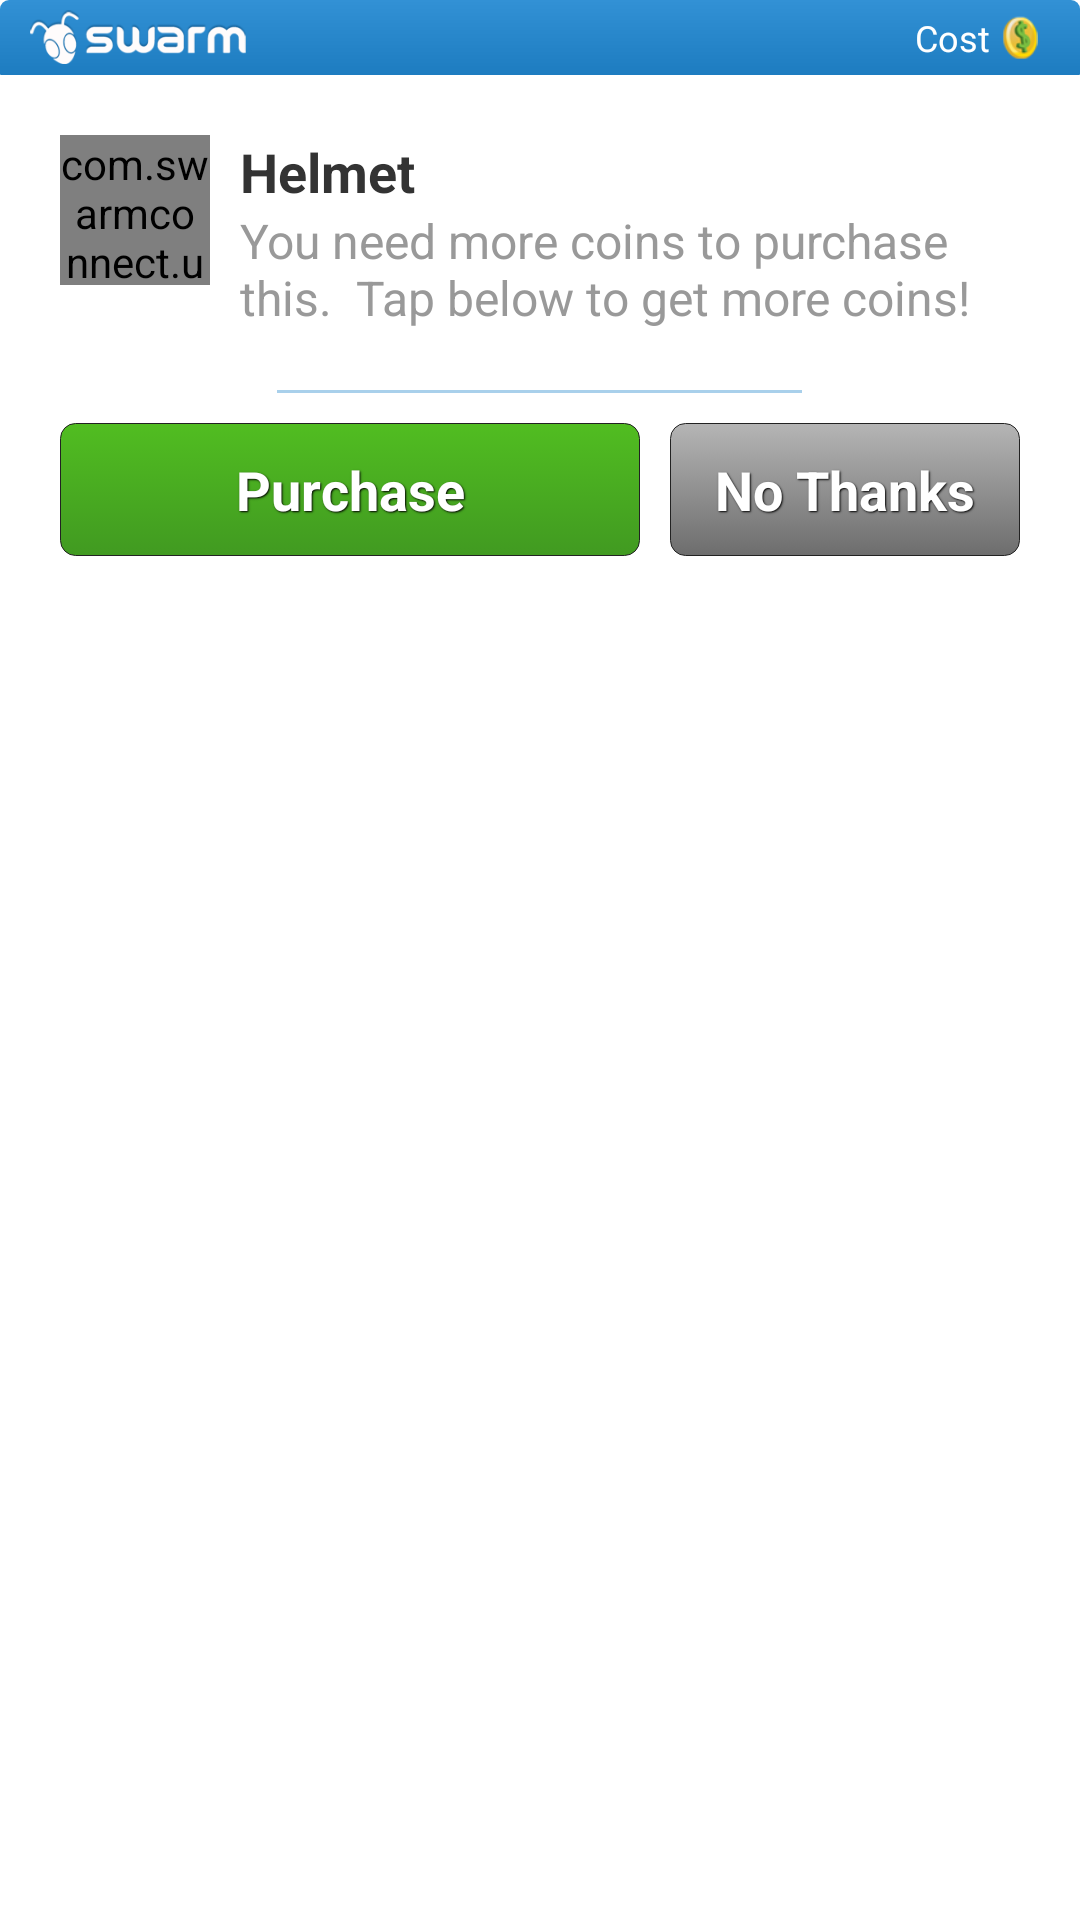

Where icons sit on this 1080x1920 app screen, as (x1=x1, y1=y1, x2=x2, y2=y2):
swarm coin: (x1=1003, y1=16, x2=1038, y2=59)
